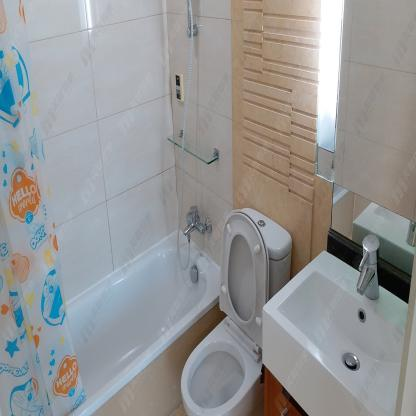Bathtub: (0, 228, 222, 416)
Toilet: (180, 201, 293, 416)
Toilet Sink: (261, 250, 410, 416)
